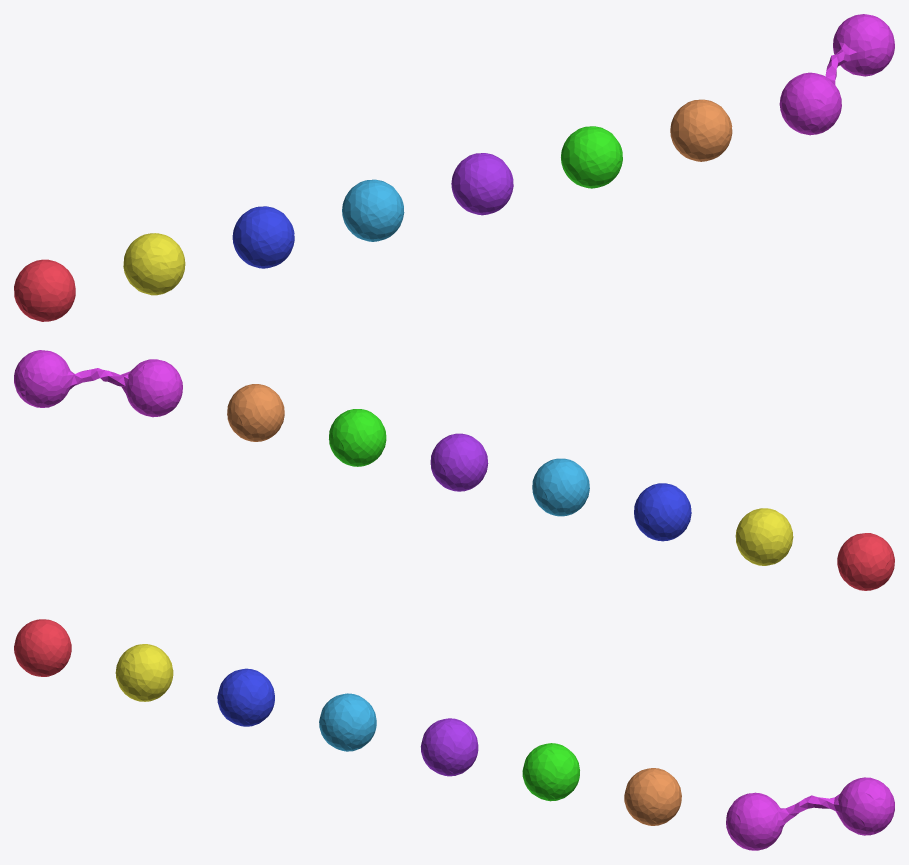
The model's file is toronto7.glb.
3 renders of one model, top to bottom at view 1: azimuth 30°, elevation 25°; view 2: azimuth 150°, elevation 25°; view 3: azimuth 330°, elevation 25°, orthographic. The views are drawn at different scales.
Visible parts, largest first — view 1: float_8, float_1, float_7, float_2, float_3, float_6, float_5, float_4; view 2: float_8, float_5, float_1, float_3, float_2, float_7, float_6, float_4; view 3: float_8, float_2, float_3, float_5, float_1, float_6, float_4, float_7.
Part boxes in pixels (x1=…): float_8: x1=779, y1=14, x2=894, y2=135; float_1: x1=14, y1=259, x2=75, y2=321; float_7: x1=670, y1=99, x2=732, y2=161; float_2: x1=232, y1=206, x2=294, y2=268; float_3: x1=342, y1=179, x2=404, y2=241; float_6: x1=561, y1=126, x2=622, y2=188; float_5: x1=451, y1=153, x2=513, y2=215; float_4: x1=123, y1=233, x2=185, y2=295; float_8: x1=14, y1=350, x2=182, y2=417; float_5: x1=430, y1=433, x2=488, y2=491; float_1: x1=837, y1=533, x2=894, y2=590; float_3: x1=532, y1=458, x2=589, y2=516; float_2: x1=634, y1=483, x2=691, y2=541; float_7: x1=227, y1=384, x2=284, y2=441; float_6: x1=329, y1=409, x2=386, y2=466; float_4: x1=735, y1=508, x2=793, y2=565; float_8: x1=726, y1=777, x2=894, y2=850; float_2: x1=217, y1=668, x2=274, y2=726; float_3: x1=319, y1=693, x2=376, y2=751; float_5: x1=420, y1=718, x2=478, y2=776; float_1: x1=14, y1=619, x2=71, y2=676; float_6: x1=522, y1=743, x2=579, y2=801; float_4: x1=115, y1=644, x2=173, y2=701; float_7: x1=624, y1=768, x2=681, y2=825.
Bounding box in the file's own units: 16.57 × 1.22 × 2.04.
